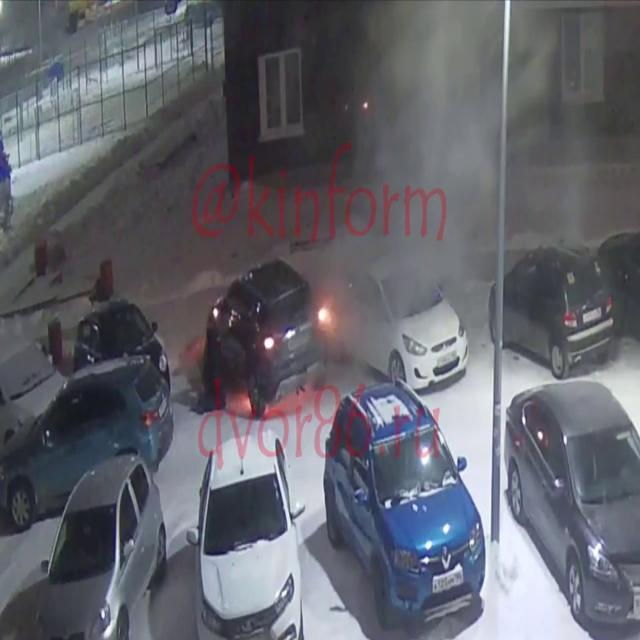Smoke: (192, 1, 640, 354)
